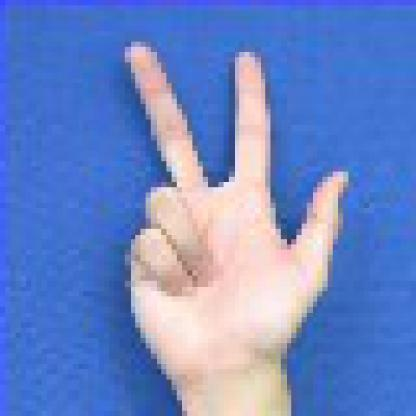eight: (68, 21, 380, 411)
